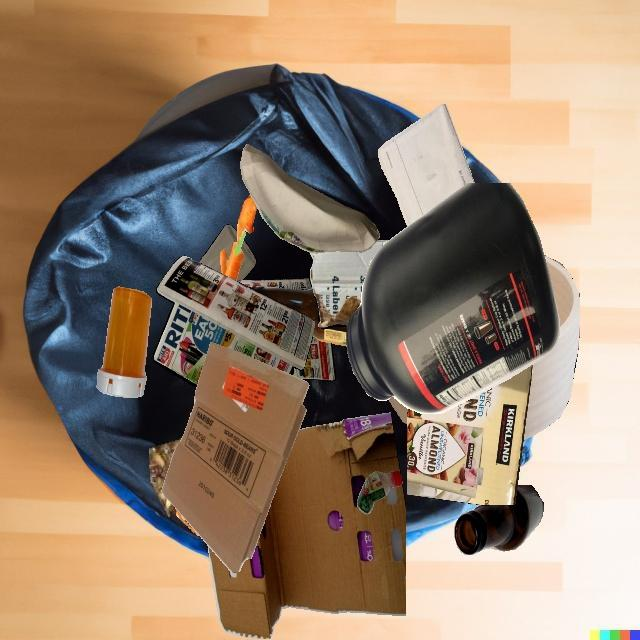biowaste: (149, 437, 200, 536), (220, 195, 257, 281)
cardboard: (208, 413, 406, 639), (161, 342, 309, 573), (407, 364, 533, 505), (308, 240, 389, 329)
combustible waste: (523, 255, 580, 440)
glass: (454, 485, 543, 555), (251, 286, 347, 346), (199, 225, 237, 273), (236, 239, 256, 280)
paper: (153, 255, 315, 387), (240, 144, 380, 253), (378, 104, 474, 227), (289, 335, 336, 381), (236, 278, 312, 291)
plastic: (346, 183, 560, 413), (96, 286, 152, 398), (357, 471, 402, 514)
